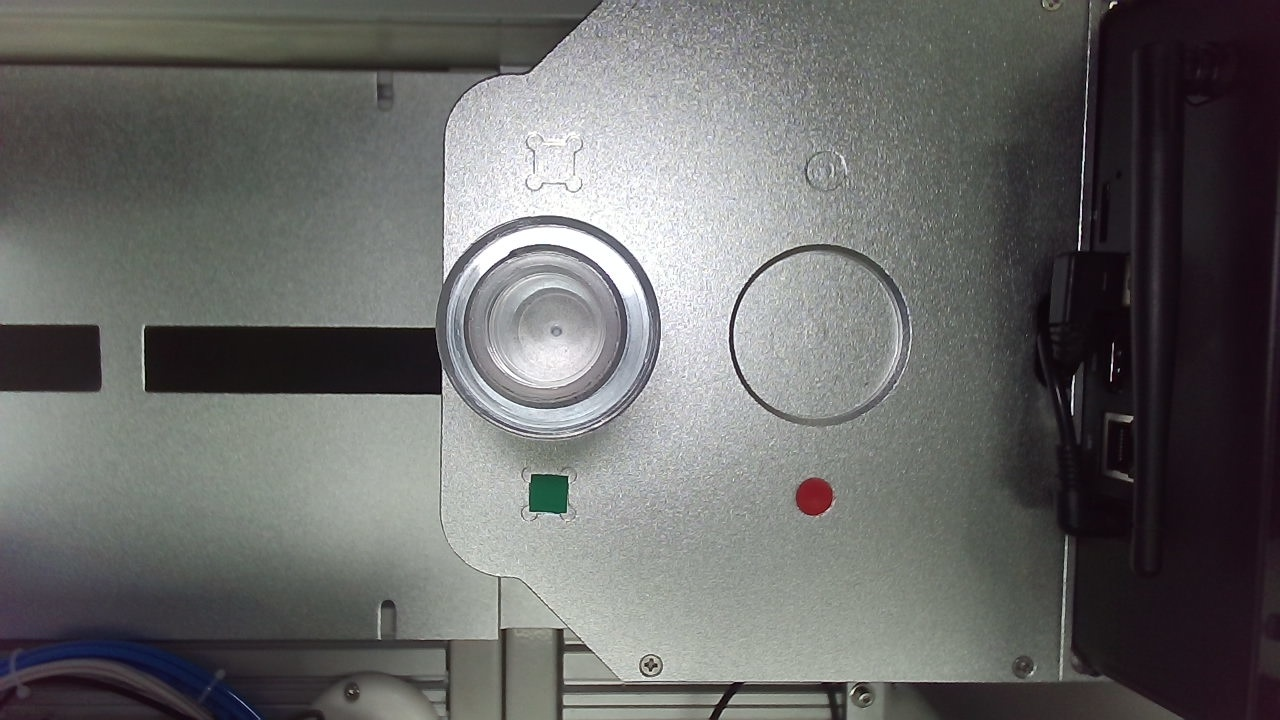XLabel: (612, 250, 645, 282)
YLabel: (391, 240, 426, 275)
none: (545, 319, 705, 481)
transparenexcept: (202, 277, 484, 492)
